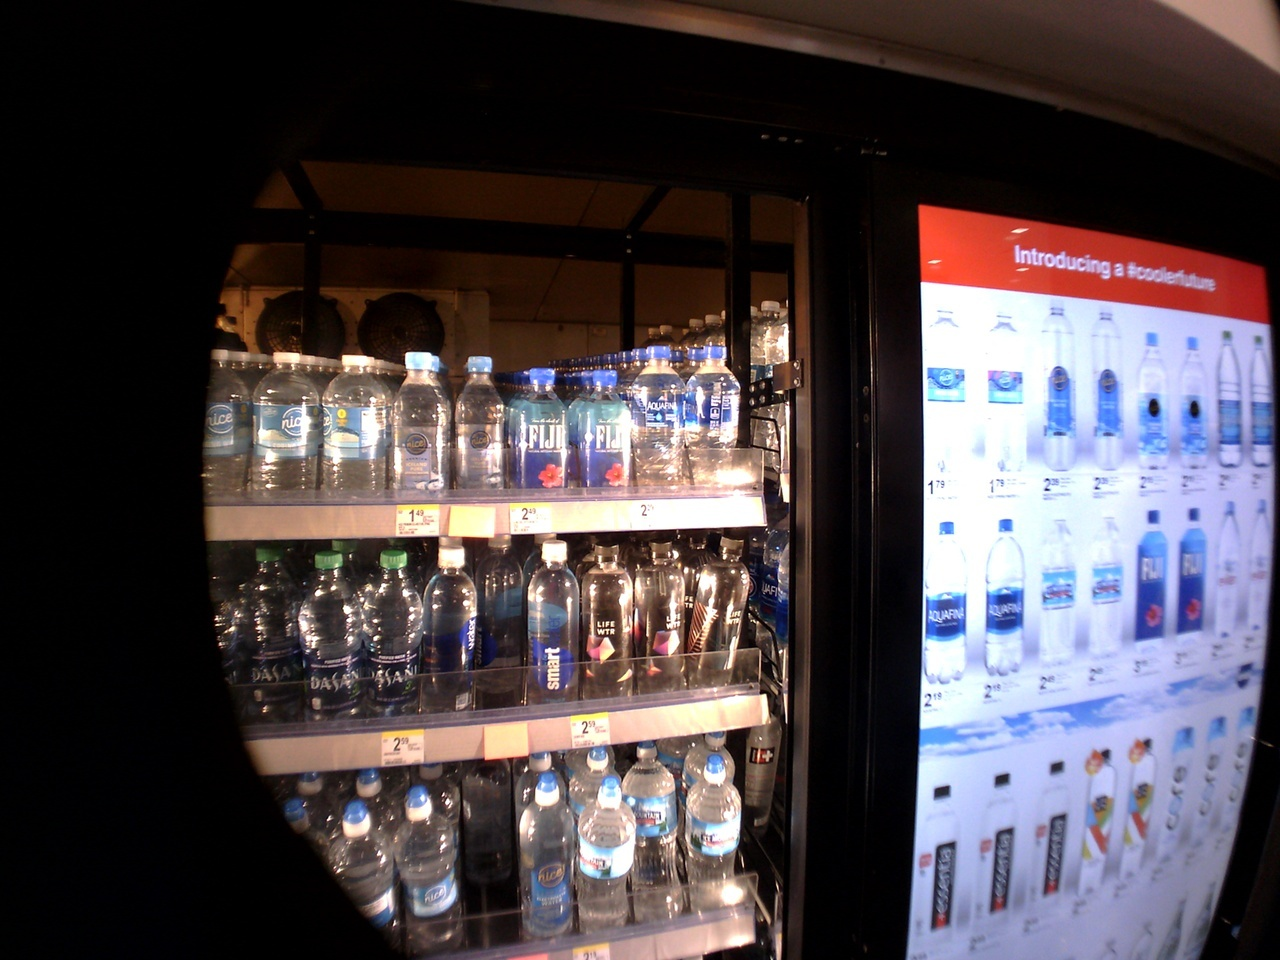shelf: (193, 735, 794, 960), (188, 539, 788, 759), (217, 329, 743, 538)
